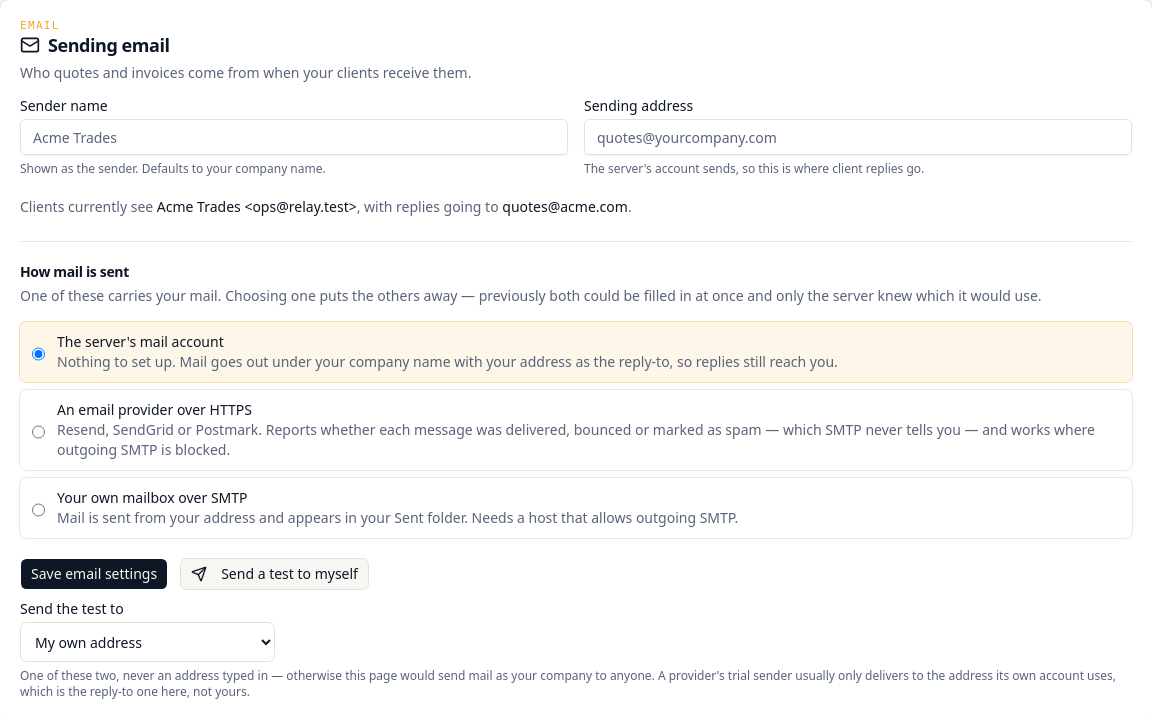
Test: a sending domain a provider can never verify › points at the two ways out
Click the radio button labelled "email provider".
click(38, 432)  # box [32, 404, 45, 460]
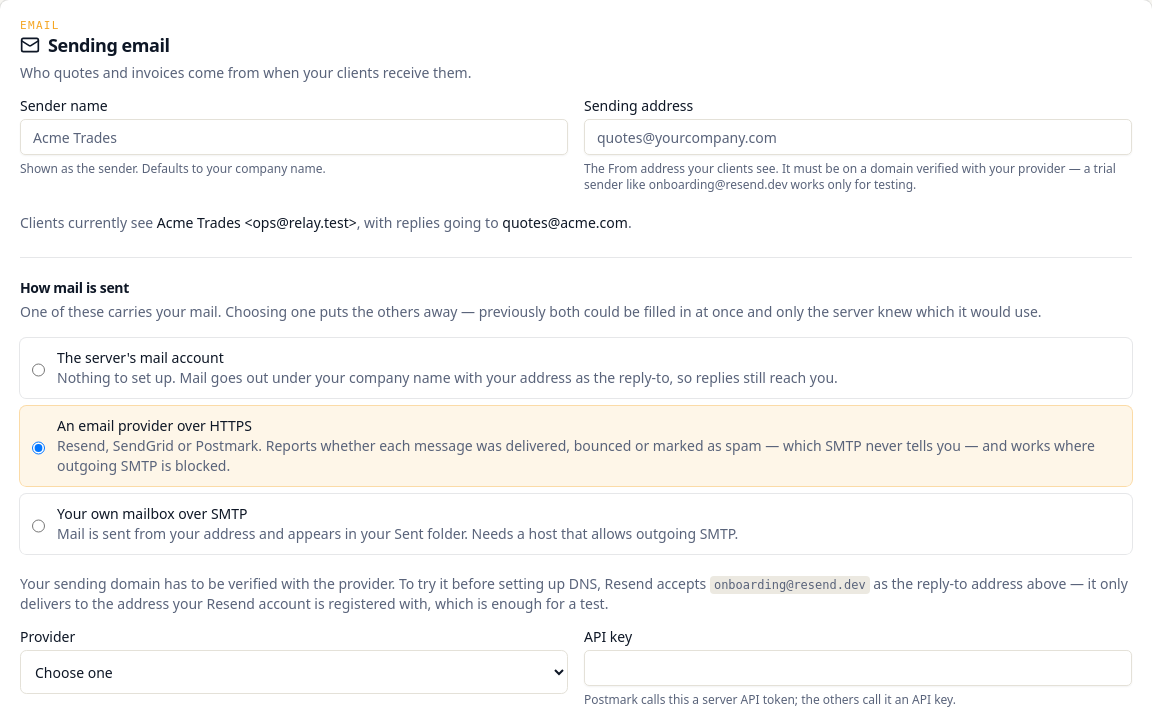
Type "someone@yahoo.com" into the field labelled "Sending address".
click(858, 137); type("someone@yahoo.com")  # box [584, 119, 1132, 155]
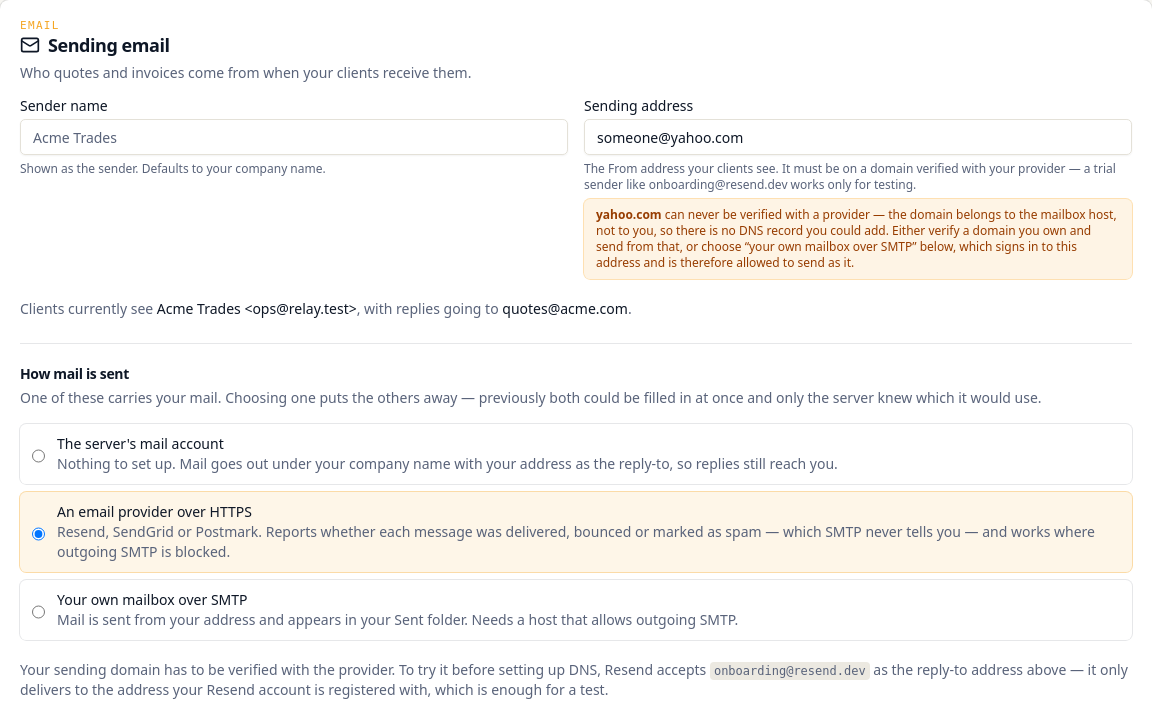
Expected: the message shows "verify a domain you own", [596, 206, 1117, 271]
Expected: the message shows "own mailbox over SMTP", [596, 206, 1117, 271]
